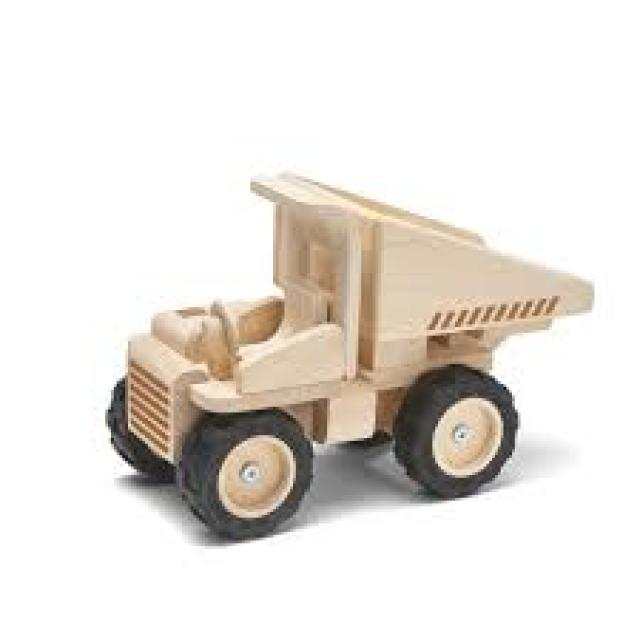dump_truck: (105, 166, 592, 537)
